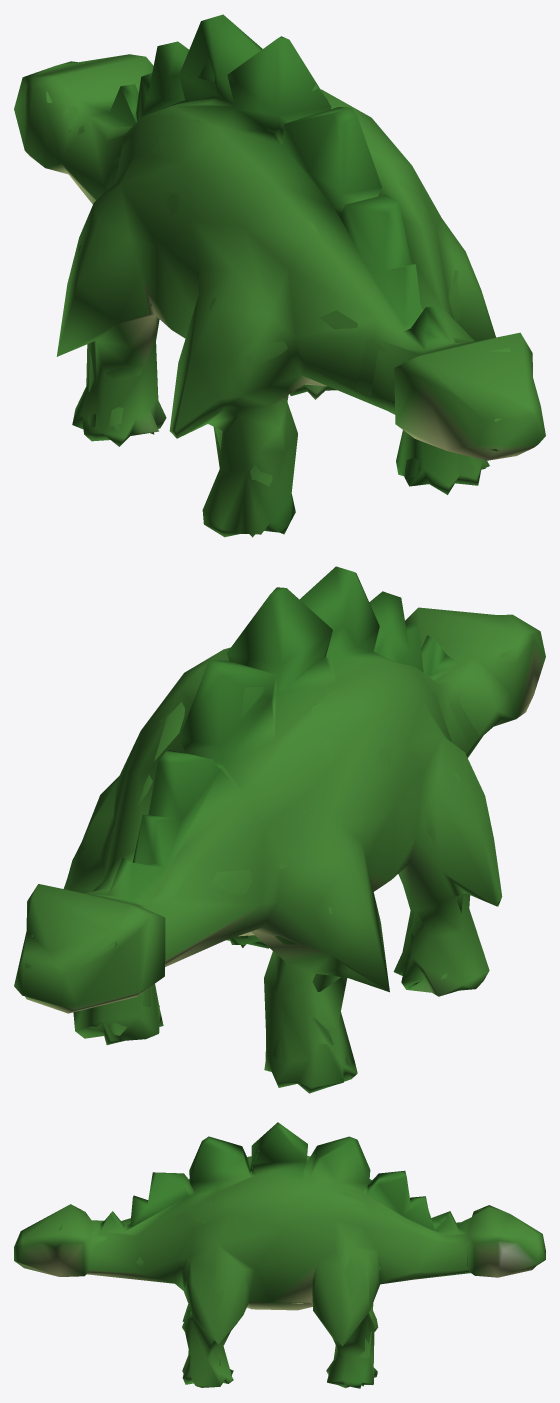
File: gen3d-stegosaurus-lod1.glb
3 renders of one model, top to bottom at view 1: azimuth 30°, elevation 25°; view 2: azimuth 150°, elevation 25°; view 3: azimuth 270°, elevation 25°, orthographic. The views are drawn at different scales.
Visible parts, largest first — view 1: part_0; view 2: part_0; view 3: part_0.
Part boxes in pixels (x1,y1,x2,y2): part_0: (14,14,545,537); part_0: (14,566,545,1093); part_0: (14,1122,545,1388).
Size of the model in its own units: 0.8345 by 0.9967 by 2.07.
